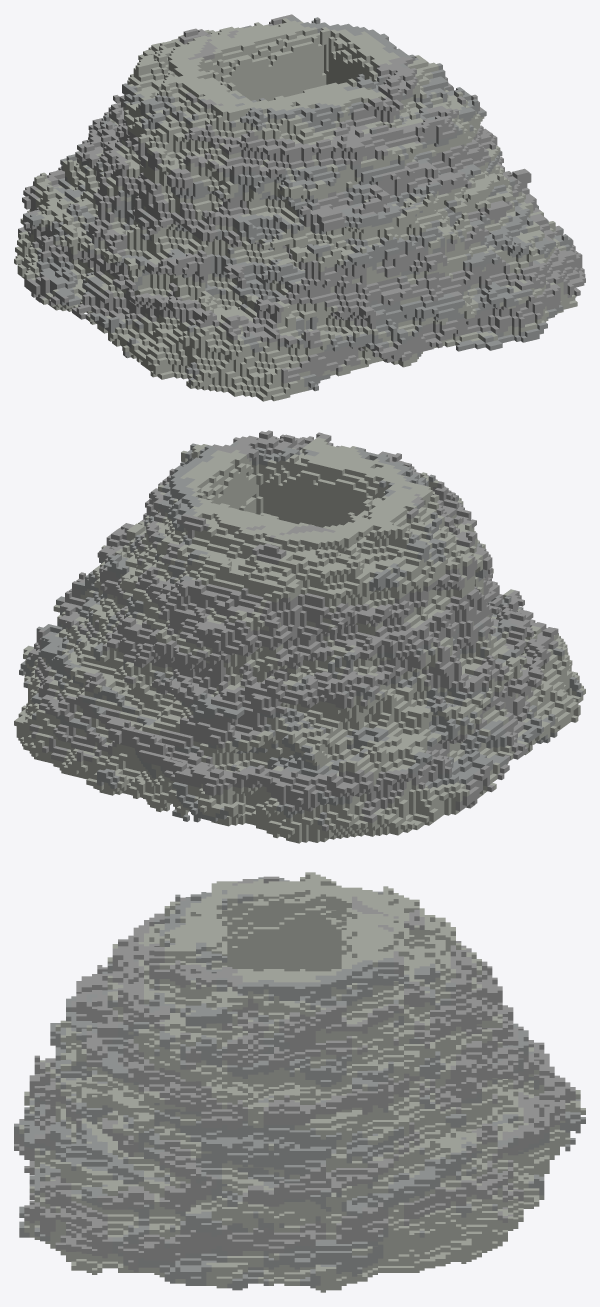
The model's file is Ash_Level2_Mountian_hole.obj.
3 views of the same model, one above another, from view 1: azimuth 30°, elevation 25°; view 2: azimuth 150°, elevation 25°; view 3: azimuth 270°, elevation 25° (orthographic). The views are drawn at different scales.
Size of the model in its own units: 11 by 5 by 11.
